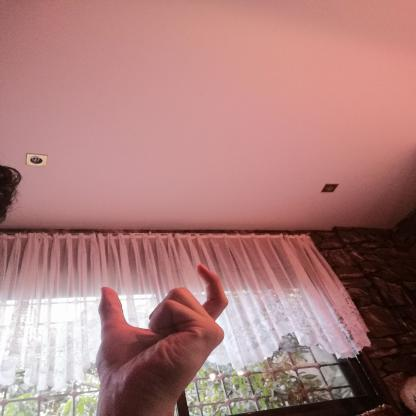NOON: (77, 256, 240, 404)
